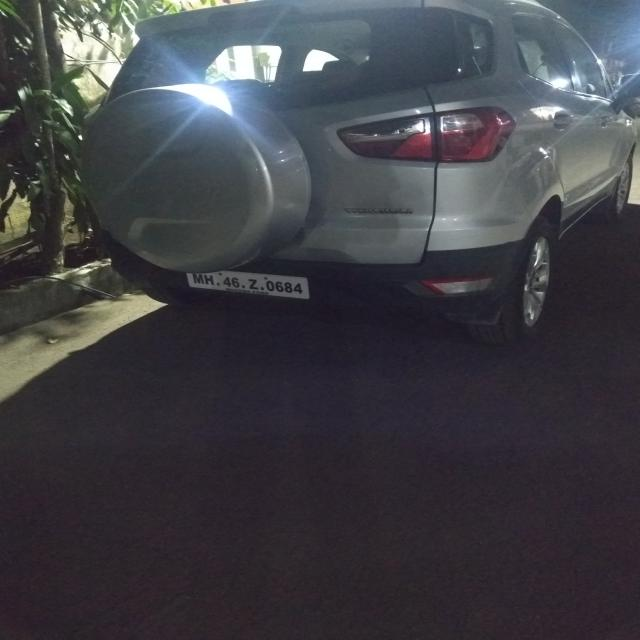Number-Plate: (195, 271, 304, 298)
